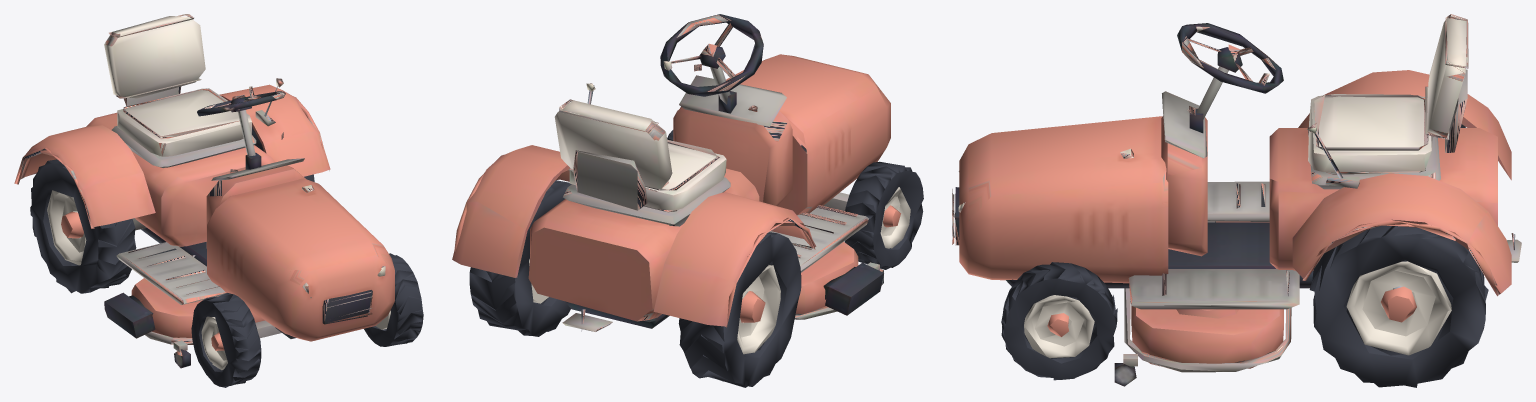
The model's file is riding-mower.glb.
The picture shows the model from 3 angles, left to right: view 1: azimuth 30°, elevation 25°; view 2: azimuth 150°, elevation 25°; view 3: azimuth 270°, elevation 25°; orthographic projection. The views are drawn at different scales.
Parts seen in each view (by area): view 1: riding-mower_body, riding-mower_wheel_fl; view 2: riding-mower_body, riding-mower_wheel_fl; view 3: riding-mower_body, riding-mower_wheel_fl.
Part boxes in pixels (bbox=[...]): riding-mower_body: bbox=[14, 14, 394, 368]; riding-mower_wheel_fl: bbox=[30, 127, 423, 387]; riding-mower_body: bbox=[452, 14, 890, 331]; riding-mower_wheel_fl: bbox=[469, 130, 923, 387]; riding-mower_body: bbox=[952, 14, 1521, 386]; riding-mower_wheel_fl: bbox=[1001, 124, 1488, 387].
Size of the model in its own units: 1.18 by 1.04 by 1.85.
4 materials, 1 textured.
